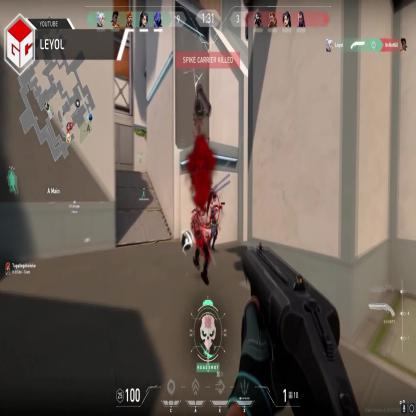enemy: (208, 194, 218, 250)
enemy_head: (212, 193, 216, 202)
